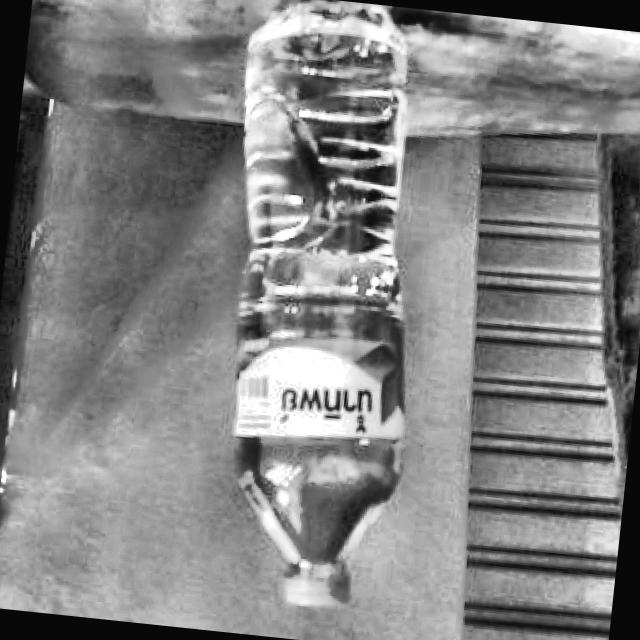waterbottle: (180, 0, 459, 625)
